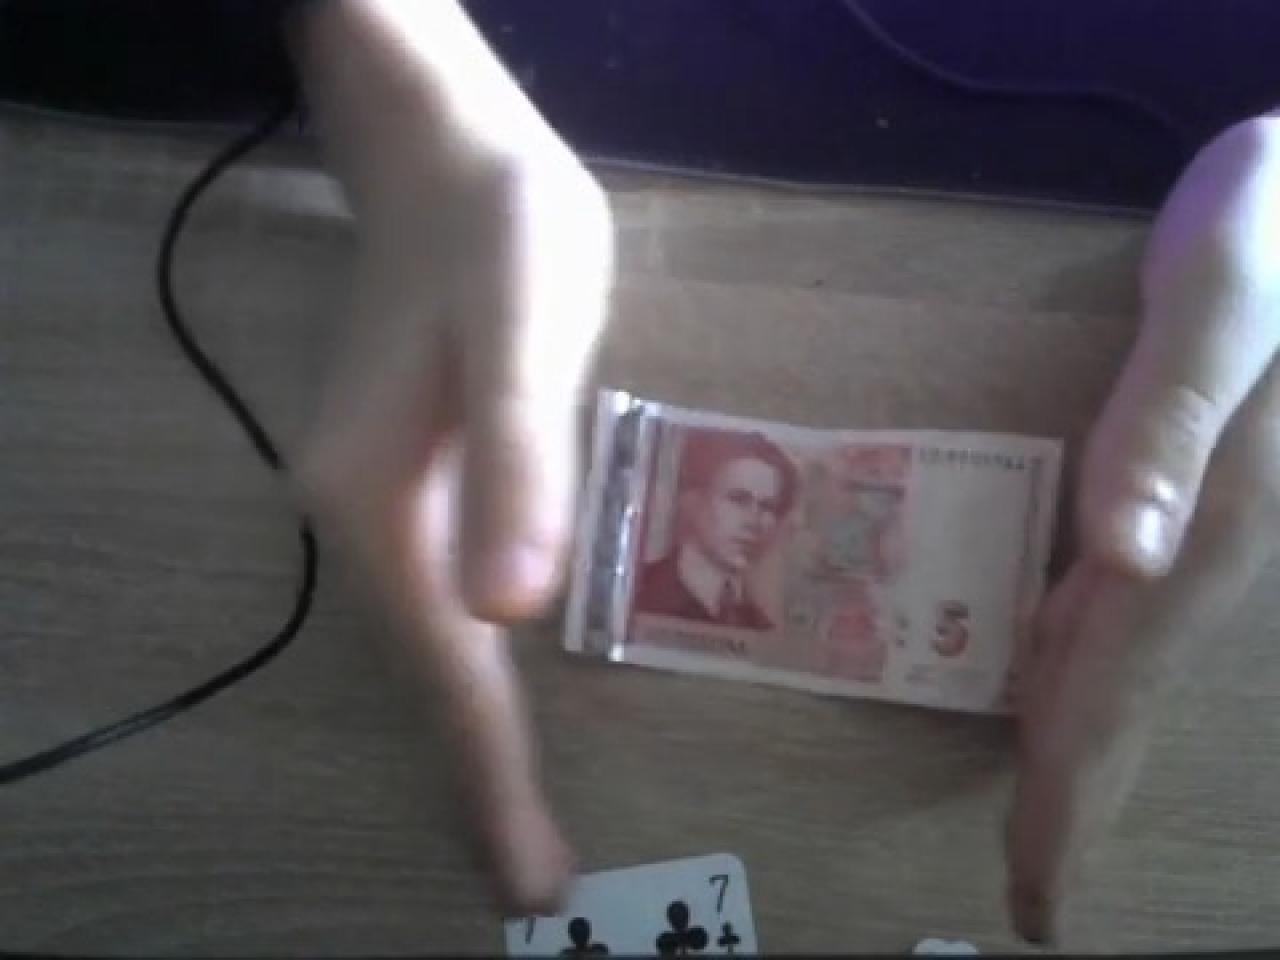5leva: (565, 392, 1067, 717)
